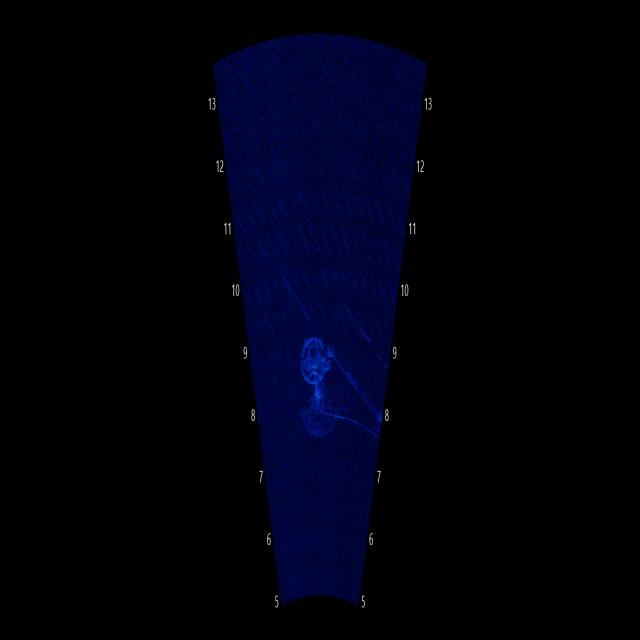circle: (291, 314, 345, 412)
